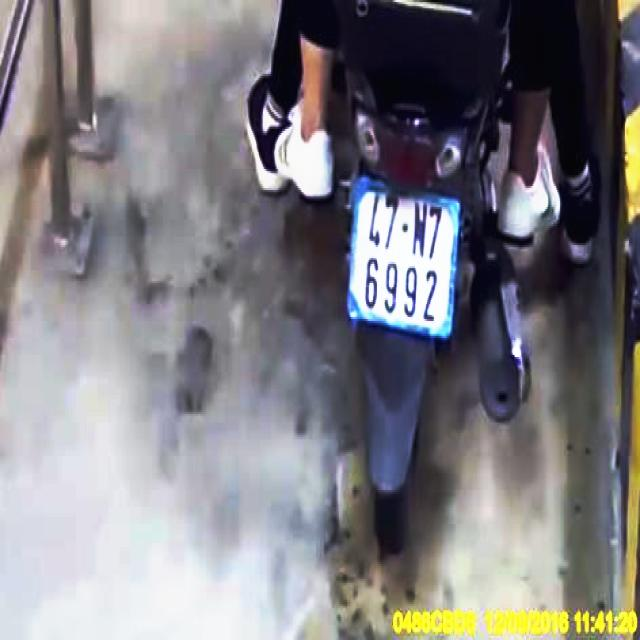license_plate: (348, 179, 465, 345)
